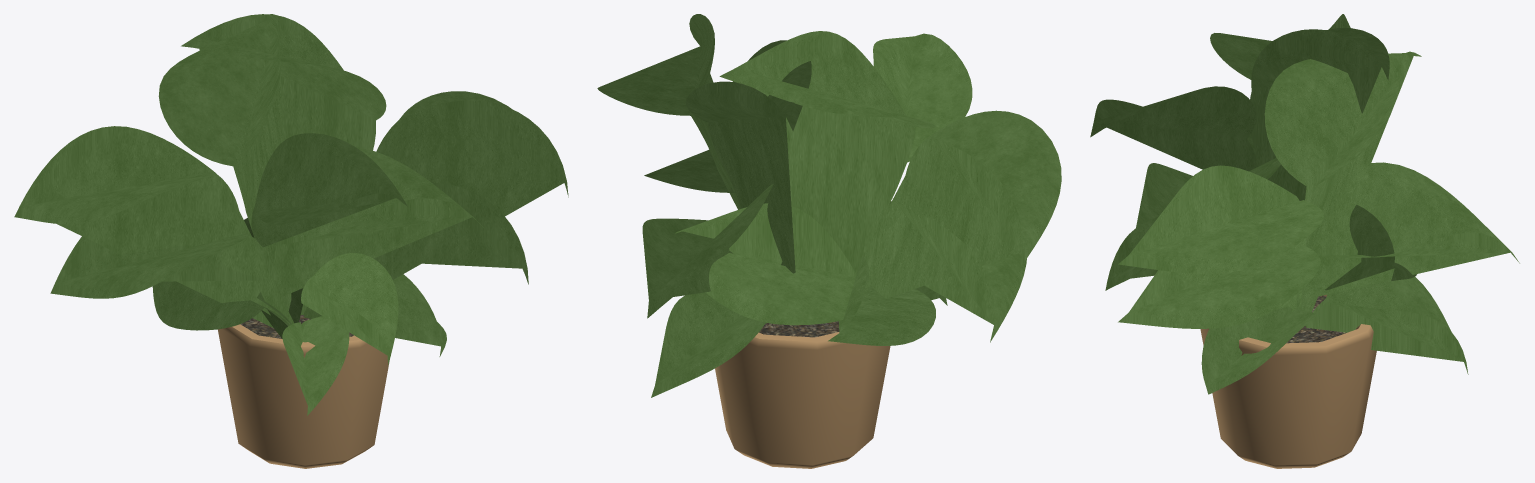
The model's file is A23DMOD_FBX.fbx.
The picture shows the model from 3 angles, left to right: view 1: azimuth 30°, elevation 25°; view 2: azimuth 150°, elevation 25°; view 3: azimuth 270°, elevation 25°; orthographic projection. The views are drawn at different scales.
Parts seen in each view (by area): view 1: A23DOBJ_001; view 2: A23DOBJ_001; view 3: A23DOBJ_001.
Boxes of the visible parts, box(x1,y1,x2,y2) form: A23DOBJ_001: box(14, 14, 568, 468); A23DOBJ_001: box(597, 14, 1061, 468); A23DOBJ_001: box(1090, 14, 1519, 468).
Size of the model in its own units: 83.87 by 71.78 by 69.09.
Materials: 3 (3 with a texture image).
